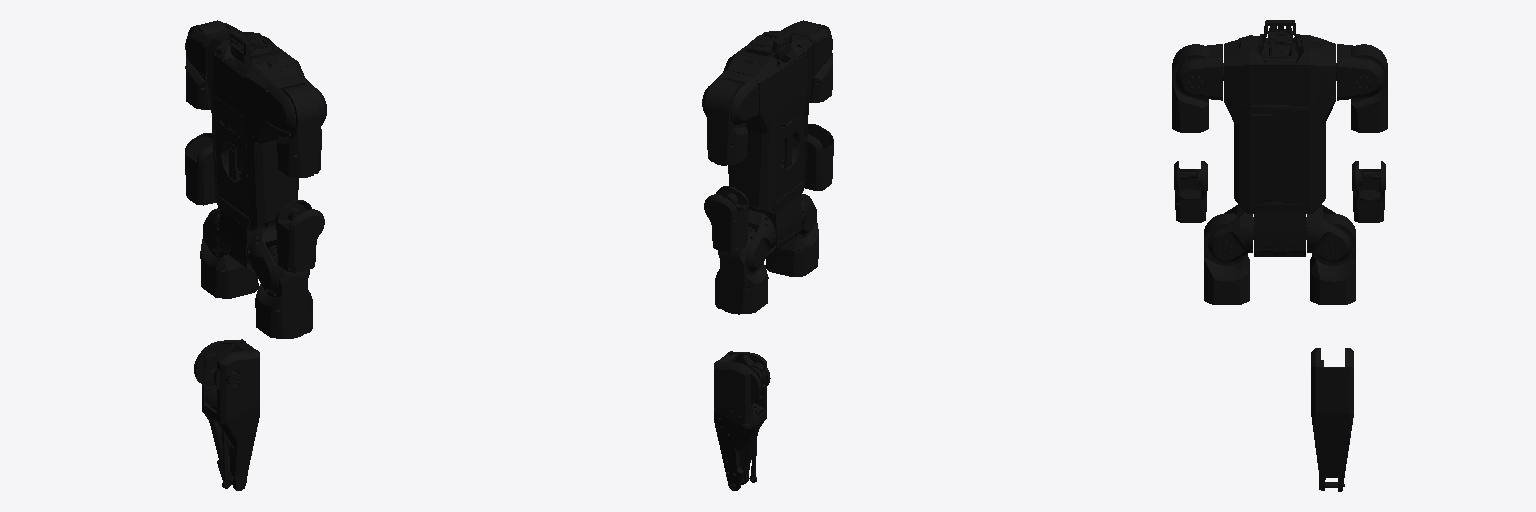
The robot description file, URDF, robot "assy_forurdf":
<?xml version="1.0" ?>
<robot name="assy_forurdf">
  <link name="base">
    <visual name="base_visual">
      <geometry name="base_geometry">
        <sphere radius="0.01"/>
      </geometry>
      <material name="base_material">
        <color rgba="1 0 0 1"/>
      </material>
      <origin xyz="0 0.035 0" rpy="0 0 1.5708"/>
    </visual>
    <inertial name="base_inertial">
      <mass value="0.001"/>
      <inertia ixx="0.000001" iyy="0.000001" izz="0.000001" ixy="0" ixz="0" iyz="0"/>
      <origin xyz="0 0.035 0" rpy="0 0 1.5708"/>
    </inertial>
  </link>
  <joint name="base_joint" type="fixed">
    <parent link="base"/>
    <child link="KD_D_101L_L_Hip_Static"/>
    <origin xyz="0 0.035 0" rpy="0 0 1.5708"/>
  </joint>
  <joint name="dof_left_hip_pitch_04" type="revolute">
    <origin xyz="0.030112 0.000852 -0.027644" rpy="-1.570796 0 1.570796"/>
    <parent link="KD_D_101L_L_Hip_Static"/>
    <child link="KD_D_102L_L_Hip_Yoke_Drive"/>
    <limit effort="120" velocity="17.488" lower="-1.047198" upper="2.216568"/>
    <axis xyz="0 0 1"/>
  </joint>
  <joint name="dof_left_hip_roll_03" type="revolute">
    <origin xyz="-0.028250 0.030000 -0.071000" rpy="3.141593 -1.570796 0"/>
    <parent link="KD_D_102L_L_Hip_Yoke_Drive"/>
    <child link="L_Hip_Roll_RS03"/>
    <limit effort="60" velocity="18.849" lower="-0.209440" upper="2.268928"/>
    <axis xyz="0 0 -1"/>
  </joint>
  <joint name="dof_right_hip_pitch_04" type="revolute">
    <origin xyz="-0.081888 0.000852 -0.027644" rpy="1.570796 0 1.570796"/>
    <parent link="KD_D_101L_L_Hip_Static"/>
    <child link="KD_D_102R"/>
    <limit effort="120" velocity="17.488" lower="-2.216568" upper="1.047198"/>
    <axis xyz="0 0 1"/>
  </joint>
  <joint name="dof_right_shoulder_pitch_03" type="revolute">
    <origin xyz="-0.146888 0.000852 0.382856" rpy="0 -1.570796 0"/>
    <parent link="KD_D_101L_L_Hip_Static"/>
    <child link="KC_C_101R_ShldYokeDrive"/>
    <limit effort="60" velocity="18.849" lower="-3.490658" upper="1.047198"/>
    <axis xyz="0 0 -1"/>
  </joint>
  <joint name="dof_left_shoulder_pitch_03" type="revolute">
    <origin xyz="0.095112 0.000852 0.382856" rpy="0 1.570796 0"/>
    <parent link="KD_D_101L_L_Hip_Static"/>
    <child link="KD_C_101L_ShldYokeDrive"/>
    <limit effort="60" velocity="18.849" lower="-1.047198" upper="3.490658"/>
    <axis xyz="0 0 -1"/>
  </joint>
  <joint name="dof_right_hip_roll_03" type="revolute">
    <origin xyz="-0.028250 -0.030000 -0.071000" rpy="0 -1.570796 0"/>
    <parent link="KD_D_102R"/>
    <child link="L_Hip_Roll_RS03_2"/>
    <limit effort="60" velocity="18.849" lower="-2.268928" upper="0.209440"/>
    <axis xyz="0 0 1"/>
  </joint>
  <joint name="dof_right_shoulder_roll_03" type="revolute">
    <origin xyz="0 -0.024250 0.080000" rpy="1.570796 1.570796 0"/>
    <parent link="KC_C_101R_ShldYokeDrive"/>
    <child link="RS03_3"/>
    <limit effort="60" velocity="18.849" lower="-1.658063" upper="0.436332"/>
    <axis xyz="0 0 1"/>
  </joint>
  <joint name="frame_imu_site" type="fixed" dont_collapse="true">
    <origin xyz="-0.025422 -0.001897 0.440523" rpy="0 0 0"/>
    <parent link="KD_D_101L_L_Hip_Static"/>
    <child link="imu"/>
  </joint>
  <joint name="dof_left_shoulder_roll_03" type="revolute">
    <origin xyz="0 -0.024250 0.080000" rpy="1.570796 -1.570796 0"/>
    <parent link="KD_C_101L_ShldYokeDrive"/>
    <child link="RS03_4"/>
    <limit effort="60" velocity="18.849" lower="-0.436332" upper="1.658063"/>
    <axis xyz="0 0 1"/>
  </joint>
  <joint name="dof_left_hip_yaw_03" type="revolute">
    <origin xyz="0 -0.143000 0.025250" rpy="1.570796 0 -3.141593"/>
    <parent link="L_Hip_Roll_RS03"/>
    <child link="KD_D_301L_L_Femur_Lower_Drive"/>
    <limit effort="60" velocity="18.849" lower="-1.570796" upper="1.570796"/>
    <axis xyz="0 0 1"/>
  </joint>
  <joint name="dof_right_hip_yaw_03" type="revolute">
    <origin xyz="0 -0.143000 -0.025250" rpy="-1.570796 0 0"/>
    <parent link="L_Hip_Roll_RS03_2"/>
    <child link="KD_D_301R"/>
    <limit effort="60" velocity="18.849" lower="-1.570796" upper="1.570796"/>
    <axis xyz="0 0 1"/>
  </joint>
  <joint name="dof_right_shoulder_yaw_02" type="revolute">
    <origin xyz="-0.013000 -0.142500 -0.031670" rpy="-1.570796 0 0"/>
    <parent link="RS03_3"/>
    <child link="KC_C_202R"/>
    <limit effort="17" velocity="37.699" lower="-1.671886" upper="1.671886"/>
    <axis xyz="0 0 1"/>
  </joint>
  <joint name="dof_left_shoulder_yaw_02" type="revolute">
    <origin xyz="0.013000 -0.142500 -0.030750" rpy="-1.570796 0 0"/>
    <parent link="RS03_4"/>
    <child link="KD_C_301L_LowerBicepDrive"/>
    <limit effort="17" velocity="37.699" lower="-1.671886" upper="1.671886"/>
    <axis xyz="0 0 1"/>
  </joint>
  <joint name="dof_left_knee_04" type="revolute">
    <origin xyz="-0.021000 0.021000 -0.212000" rpy="1.570796 0 1.570796"/>
    <parent link="KD_D_301L_L_Femur_Lower_Drive"/>
    <child link="KD_D_401L_L_Shin_Drive"/>
    <limit effort="120" velocity="17.488" lower="0" upper="2.705260"/>
    <axis xyz="0 0 1"/>
  </joint>
  <joint name="dof_left_ankle_02" type="revolute">
    <origin xyz="-0.030000 -0.290000 0.000950" rpy="3.141593 0 0"/>
    <parent link="KD_D_401L_L_Shin_Drive"/>
    <child link="LFootBushing_GPF_1517_12"/>
    <limit effort="17" velocity="37.699" lower="-1.134464" upper="0.261799"/>
    <axis xyz="0 0 -1"/>
  </joint>
  <joint name="dof_right_knee_04" type="revolute">
    <origin xyz="0.021000 0.021000 -0.212000" rpy="1.570796 0 1.570796"/>
    <parent link="KD_D_301R"/>
    <child link="KD_D_401R"/>
    <limit effort="120" velocity="17.488" lower="-2.705260" upper="0"/>
    <axis xyz="0 0 -1"/>
  </joint>
  <joint name="dof_right_elbow_02" type="revolute">
    <origin xyz="0.019000 -0.010000 -0.137000" rpy="-1.570796 0 1.570796"/>
    <parent link="KC_C_202R"/>
    <child link="KC_C_401R_R_UpForearmDrive"/>
    <limit effort="17" velocity="37.699" lower="0" upper="2.478368"/>
    <axis xyz="0 0 1"/>
  </joint>
  <joint name="dof_left_elbow_02" type="revolute">
    <origin xyz="-0.019000 -0.010000 -0.137000" rpy="1.570796 0 1.570796"/>
    <parent link="KD_C_301L_LowerBicepDrive"/>
    <child link="KC_C_401L_Up_Forearm_Drive"/>
    <limit effort="17" velocity="37.699" lower="-2.478368" upper="0"/>
    <axis xyz="0 0 1"/>
  </joint>
  <joint name="dof_right_ankle_02" type="revolute">
    <origin xyz="-0.030000 -0.290000 -0.000950" rpy="0 0 0"/>
    <parent link="KD_D_401R"/>
    <child link="RFootBushing_GPF_1517_12"/>
    <limit effort="17" velocity="37.699" lower="-0.261799" upper="1.134464"/>
    <axis xyz="0 0 -1"/>
  </joint>
  <joint name="dof_right_wrist_00" type="revolute">
    <origin xyz="0.017350 0.103000 0.018000" rpy="-1.570796 1.570796 0"/>
    <parent link="KC_C_401R_R_UpForearmDrive"/>
    <child link="PRT0001"/>
    <limit effort="14" velocity="27.227" lower="-1.378810" upper="1.378810"/>
    <axis xyz="0 0 -1"/>
  </joint>
  <joint name="dof_left_wrist_00" type="revolute">
    <origin xyz="0.017350 -0.103000 0.018000" rpy="1.570796 -1.570796 0"/>
    <parent link="KC_C_401L_Up_Forearm_Drive"/>
    <child link="PRT0001_2"/>
    <limit effort="14" velocity="27.227" lower="-1.378810" upper="1.378810"/>
    <axis xyz="0 0 -1"/>
  </joint>
  <link name="KD_D_101L_L_Hip_Static">
    <visual name="KD_D_101L_L_Hip_Static_visual">
      <origin xyz="0 0 0" rpy="0 0 0"/>
      <geometry name="KD_D_101L_L_Hip_Static_geometry">
        <mesh filename="meshes/KD_D_101L_L_Hip_Static.stl"/>
      </geometry>
      <material name="KD_D_101L_L_Hip_Static_material">
        <color rgba="0.121569 0.121569 0.121569 1"/>
      </material>
    </visual>
    <inertial name="KD_D_101L_L_Hip_Static_inertial">
      <mass value="11.824875"/>
      <inertia ixx="0.367192" iyy="0.395569" izz="0.056774" ixy="0.000002" ixz="0.000012" iyz="-0.001526"/>
      <origin xyz="-0.025919 0.003348 0.170435" rpy="0 0 0"/>
    </inertial>
  </link>
  <link name="KD_D_102L_L_Hip_Yoke_Drive">
    <visual name="KD_D_102L_L_Hip_Yoke_Drive_visual">
      <origin xyz="0 0 0" rpy="0 0 0"/>
      <geometry name="KD_D_102L_L_Hip_Yoke_Drive_geometry">
        <mesh filename="meshes/KD_D_102L_L_Hip_Yoke_Drive.stl"/>
      </geometry>
      <material name="KD_D_102L_L_Hip_Yoke_Drive_material">
        <color rgba="0.121569 0.121569 0.121569 1"/>
      </material>
    </visual>
    <inertial name="KD_D_102L_L_Hip_Yoke_Drive_inertial">
      <mass value="0.550354"/>
      <inertia ixx="0.000930" iyy="0.001251" izz="0.001328" ixy="0.000057" ixz="-0.000041" iyz="0.000182"/>
      <origin xyz="-0.004258 0.005667 -0.040380" rpy="0 0 0"/>
    </inertial>
  </link>
  <link name="L_Hip_Roll_RS03">
    <visual name="L_Hip_Roll_RS03_visual">
      <origin xyz="0 0 0" rpy="0 0 0"/>
      <geometry name="L_Hip_Roll_RS03_geometry">
        <mesh filename="meshes/L_Hip_Roll_RS03.stl"/>
      </geometry>
      <material name="L_Hip_Roll_RS03_material">
        <color rgba="0.121569 0.121569 0.121569 1"/>
      </material>
    </visual>
    <inertial name="L_Hip_Roll_RS03_inertial">
      <mass value="2.396969"/>
      <inertia ixx="0.010350" iyy="0.003224" izz="0.010755" ixy="0.000002" ixz="0.000009" iyz="-0.000303"/>
      <origin xyz="-0.000136 -0.059376 0.026066" rpy="0 0 0"/>
    </inertial>
  </link>
  <link name="KD_D_102R">
    <visual name="KD_D_102R_visual">
      <origin xyz="0 0 0" rpy="0 0 0"/>
      <geometry name="KD_D_102R_geometry">
        <mesh filename="meshes/KD_D_102R.stl"/>
      </geometry>
      <material name="KD_D_102R_material">
        <color rgba="0.121569 0.121569 0.121569 1"/>
      </material>
    </visual>
    <inertial name="KD_D_102R_inertial">
      <mass value="0.550361"/>
      <inertia ixx="0.000930" iyy="0.001251" izz="0.001328" ixy="-0.000057" ixz="-0.000041" iyz="-0.000182"/>
      <origin xyz="-0.004258 -0.005667 -0.040379" rpy="0 0 0"/>
    </inertial>
  </link>
  <link name="KC_C_101R_ShldYokeDrive">
    <visual name="KC_C_101R_ShldYokeDrive_visual">
      <origin xyz="0 0 0" rpy="0 0 0"/>
      <geometry name="KC_C_101R_ShldYokeDrive_geometry">
        <mesh filename="meshes/KC_C_101R_ShldYokeDrive.stl"/>
      </geometry>
      <material name="KC_C_101R_ShldYokeDrive_material">
        <color rgba="0.121569 0.121569 0.121569 1"/>
      </material>
    </visual>
    <inertial name="KC_C_101R_ShldYokeDrive_inertial">
      <mass value="0.569870"/>
      <inertia ixx="0.001409" iyy="0.001159" izz="0.001309" ixy="0" ixz="0.000001" iyz="0.000162"/>
      <origin xyz="0.003158 -0.007737 0.047375" rpy="0 0 0"/>
    </inertial>
  </link>
  <link name="KD_C_101L_ShldYokeDrive">
    <visual name="KD_C_101L_ShldYokeDrive_visual">
      <origin xyz="0 0 0" rpy="0 0 0"/>
      <geometry name="KD_C_101L_ShldYokeDrive_geometry">
        <mesh filename="meshes/KD_C_101L_ShldYokeDrive.stl"/>
      </geometry>
      <material name="KD_C_101L_ShldYokeDrive_material">
        <color rgba="0.121569 0.121569 0.121569 1"/>
      </material>
    </visual>
    <inertial name="KD_C_101L_ShldYokeDrive_inertial">
      <mass value="0.569863"/>
      <inertia ixx="0.001409" iyy="0.001159" izz="0.001309" ixy="0" ixz="-0.000001" iyz="0.000162"/>
      <origin xyz="-0.003158 -0.007737 0.047374" rpy="0 0 0"/>
    </inertial>
  </link>
  <link name="L_Hip_Roll_RS03_2">
    <visual name="L_Hip_Roll_RS03_visual_2">
      <origin xyz="0 0 0" rpy="0 0 0"/>
      <geometry name="L_Hip_Roll_RS03_geometry_2">
        <mesh filename="meshes/L_Hip_Roll_RS03_2.stl"/>
      </geometry>
      <material name="L_Hip_Roll_RS03_material_2">
        <color rgba="0.121569 0.121569 0.121569 1"/>
      </material>
    </visual>
    <inertial name="L_Hip_Roll_RS03_inertial_2">
      <mass value="2.396917"/>
      <inertia ixx="0.010350" iyy="0.003224" izz="0.010755" ixy="0.000002" ixz="-0.000009" iyz="0.000303"/>
      <origin xyz="-0.000137 -0.059376 -0.026067" rpy="0 0 0"/>
    </inertial>
  </link>
  <link name="RS03_3">
    <visual name="RS03_visual_3">
      <origin xyz="0 0 0" rpy="0 0 0"/>
      <geometry name="RS03_geometry_3">
        <mesh filename="meshes/RS03_3.stl"/>
      </geometry>
      <material name="RS03_material_3">
        <color rgba="0.121569 0.121569 0.121569 1"/>
      </material>
    </visual>
    <inertial name="RS03_inertial_3">
      <mass value="1.789232"/>
      <inertia ixx="0.007176" iyy="0.001972" izz="0.007602" ixy="-0.000597" ixz="-0.000001" iyz="-0.000081"/>
      <origin xyz="-0.004909 -0.041175 -0.029409" rpy="0 0 0"/>
    </inertial>
  </link>
  <link name="imu">
    <visual name="imu_visual">
      <origin xyz="0 0 0" rpy="0 0 0"/>
      <geometry name="imu_geometry">
        <mesh filename="meshes/imu.stl"/>
      </geometry>
      <material name="imu_material">
        <color rgba="0.498039 0.498039 0.498039 1"/>
      </material>
    </visual>
    <inertial name="imu_inertial">
      <mass value="0.005700"/>
      <inertia ixx="0.000001" iyy="0.000001" izz="0.000002" ixy="0" ixz="0" iyz="0"/>
      <origin xyz="-0.003012 0 0.002999" rpy="0 0 0"/>
    </inertial>
  </link>
  <link name="RS03_4">
    <visual name="RS03_visual_4">
      <origin xyz="0 0 0" rpy="0 0 0"/>
      <geometry name="RS03_geometry_4">
        <mesh filename="meshes/RS03_4.stl"/>
      </geometry>
      <material name="RS03_material_4">
        <color rgba="0.121569 0.121569 0.121569 1"/>
      </material>
    </visual>
    <inertial name="RS03_inertial_4">
      <mass value="1.789190"/>
      <inertia ixx="0.007175" iyy="0.001972" izz="0.007602" ixy="0.000599" ixz="0.000012" iyz="-0.000104"/>
      <origin xyz="0.004876 -0.041173 -0.029352" rpy="0 0 0"/>
    </inertial>
  </link>
  <link name="KD_D_301L_L_Femur_Lower_Drive">
    <visual name="KD_D_301L_L_Femur_Lower_Drive_visual">
      <origin xyz="0 0 0" rpy="0 0 0"/>
      <geometry name="KD_D_301L_L_Femur_Lower_Drive_geometry">
        <mesh filename="meshes/KD_D_301L_L_Femur_Lower_Drive.stl"/>
      </geometry>
      <material name="KD_D_301L_L_Femur_Lower_Drive_material">
        <color rgba="0.121569 0.121569 0.121569 1"/>
      </material>
    </visual>
    <inertial name="KD_D_301L_L_Femur_Lower_Drive_inertial">
      <mass value="2.349254"/>
      <inertia ixx="0.015361" iyy="0.013924" izz="0.004011" ixy="-0.000189" ixz="0.001119" iyz="0.001496"/>
      <origin xyz="0.001576 0.013392 -0.172799" rpy="0 0 0"/>
    </inertial>
  </link>
  <link name="KD_D_301R">
    <visual name="KD_D_301R_visual">
      <origin xyz="0 0 0" rpy="0 0 0"/>
      <geometry name="KD_D_301R_geometry">
        <mesh filename="meshes/KD_D_301R.stl"/>
      </geometry>
      <material name="KD_D_301R_material">
        <color rgba="0.121569 0.121569 0.121569 1"/>
      </material>
    </visual>
    <inertial name="KD_D_301R_inertial">
      <mass value="2.349261"/>
      <inertia ixx="0.015362" iyy="0.013924" izz="0.004011" ixy="0.000189" ixz="-0.001119" iyz="0.001496"/>
      <origin xyz="-0.001577 0.013392 -0.172799" rpy="0 0 0"/>
    </inertial>
  </link>
  <link name="KC_C_202R">
    <visual name="KC_C_202R_visual">
      <origin xyz="0 0 0" rpy="0 0 0"/>
      <geometry name="KC_C_202R_geometry">
        <mesh filename="meshes/KC_C_202R.stl"/>
      </geometry>
      <material name="KC_C_202R_material">
        <color rgba="0.121569 0.121569 0.121569 1"/>
      </material>
    </visual>
    <inertial name="KC_C_202R_inertial">
      <mass value="0.753224"/>
      <inertia ixx="0.002457" iyy="0.002305" izz="0.000727" ixy="-0.000034" ixz="-0.000250" iyz="-0.000139"/>
      <origin xyz="0.003135 -0.003955 -0.099599" rpy="0 0 0"/>
    </inertial>
  </link>
  <link name="KD_C_301L_LowerBicepDrive">
    <visual name="KD_C_301L_LowerBicepDrive_visual">
      <origin xyz="0 0 0" rpy="0 0 0"/>
      <geometry name="KD_C_301L_LowerBicepDrive_geometry">
        <mesh filename="meshes/KD_C_301L_LowerBicepDrive.stl"/>
      </geometry>
      <material name="KD_C_301L_LowerBicepDrive_material">
        <color rgba="0.121569 0.121569 0.121569 1"/>
      </material>
    </visual>
    <inertial name="KD_C_301L_LowerBicepDrive_inertial">
      <mass value="0.866827"/>
      <inertia ixx="0.002953" iyy="0.002777" izz="0.000923" ixy="0.000016" ixz="0.000145" iyz="-0.000150"/>
      <origin xyz="0.000333 -0.002948 -0.095705" rpy="0 0 0"/>
    </inertial>
  </link>
  <link name="KD_D_401L_L_Shin_Drive">
    <visual name="KD_D_401L_L_Shin_Drive_visual">
      <origin xyz="0 0 0" rpy="0 0 0"/>
      <geometry name="KD_D_401L_L_Shin_Drive_geometry">
        <mesh filename="meshes/KD_D_401L_L_Shin_Drive.stl"/>
      </geometry>
      <material name="KD_D_401L_L_Shin_Drive_material">
        <color rgba="0.121569 0.121569 0.121569 1"/>
      </material>
    </visual>
    <inertial name="KD_D_401L_L_Shin_Drive_inertial">
      <mass value="1.684707"/>
      <inertia ixx="0.014785" iyy="0.002991" izz="0.014664" ixy="-0.000101" ixz="0.000022" iyz="0.000493"/>
      <origin xyz="-0.024116 -0.104308 0.018559" rpy="0 0 0"/>
    </inertial>
  </link>
  <link name="LFootBushing_GPF_1517_12">
    <visual name="LFootBushing_GPF_1517_12_visual">
      <origin xyz="0 0 0" rpy="0 0 0"/>
      <geometry name="LFootBushing_GPF_1517_12_geometry">
        <mesh filename="meshes/LFootBushing_GPF_1517_12.stl"/>
      </geometry>
      <material name="LFootBushing_GPF_1517_12_material">
        <color rgba="0.121569 0.121569 0.121569 1"/>
      </material>
    </visual>
    <collision name="LFootBushing_GPF_1517_12.collision">
      <origin xyz="0 0 0" rpy="0 0 0"/>
      <geometry name="LFootBushing_GPF_1517_12_collision_geometry">
        <mesh filename="meshes/LFootBushing_GPF_1517_12.collision.stl"/>
      </geometry>
    </collision>
    <inertial name="LFootBushing_GPF_1517_12_inertial">
      <mass value="0.608966"/>
      <inertia ixx="0.000377" iyy="0.001940" izz="0.001893" ixy="0.000126" ixz="-0.000025" iyz="0.000027"/>
      <origin xyz="-0.016549 0.031142 -0.012943" rpy="0 0 0"/>
    </inertial>
  </link>
  <link name="KD_D_401R">
    <visual name="KD_D_401R_visual">
      <origin xyz="0 0 0" rpy="0 0 0"/>
      <geometry name="KD_D_401R_geometry">
        <mesh filename="meshes/KD_D_401R.stl"/>
      </geometry>
      <material name="KD_D_401R_material">
        <color rgba="0.121569 0.121569 0.121569 1"/>
      </material>
    </visual>
    <inertial name="KD_D_401R_inertial">
      <mass value="1.684717"/>
      <inertia ixx="0.014785" iyy="0.002991" izz="0.014664" ixy="-0.000101" ixz="-0.000022" iyz="-0.000494"/>
      <origin xyz="-0.024117 -0.104310 -0.018558" rpy="0 0 0"/>
    </inertial>
  </link>
  <link name="KC_C_401R_R_UpForearmDrive">
    <visual name="KC_C_401R_R_UpForearmDrive_visual">
      <origin xyz="0 0 0" rpy="0 0 0"/>
      <geometry name="KC_C_401R_R_UpForearmDrive_geometry">
        <mesh filename="meshes/KC_C_401R_R_UpForearmDrive.stl"/>
      </geometry>
      <material name="KC_C_401R_R_UpForearmDrive_material">
        <color rgba="0.121569 0.121569 0.121569 1"/>
      </material>
    </visual>
    <inertial name="KC_C_401R_R_UpForearmDrive_inertial">
      <mass value="0.641859"/>
      <inertia ixx="0.001302" iyy="0.000701" izz="0.001278" ixy="-0.000051" ixz="-0.000010" iyz="-0.000045"/>
      <origin xyz="0.015853 0.061198 0.015613" rpy="0 0 0"/>
    </inertial>
  </link>
  <link name="KC_C_401L_Up_Forearm_Drive">
    <visual name="KC_C_401L_Up_Forearm_Drive_visual">
      <origin xyz="0 0 0" rpy="0 0 0"/>
      <geometry name="KC_C_401L_Up_Forearm_Drive_geometry">
        <mesh filename="meshes/KC_C_401L_Up_Forearm_Drive.stl"/>
      </geometry>
      <material name="KC_C_401L_Up_Forearm_Drive_material">
        <color rgba="0.121569 0.121569 0.121569 1"/>
      </material>
    </visual>
    <inertial name="KC_C_401L_Up_Forearm_Drive_inertial">
      <mass value="0.641873"/>
      <inertia ixx="0.001303" iyy="0.000701" izz="0.001278" ixy="0.000051" ixz="-0.000010" iyz="0.000048"/>
      <origin xyz="0.015853 -0.061197 0.015921" rpy="0 0 0"/>
    </inertial>
  </link>
  <link name="RFootBushing_GPF_1517_12">
    <visual name="RFootBushing_GPF_1517_12_visual">
      <origin xyz="0 0 0" rpy="0 0 0"/>
      <geometry name="RFootBushing_GPF_1517_12_geometry">
        <mesh filename="meshes/RFootBushing_GPF_1517_12.stl"/>
      </geometry>
      <material name="RFootBushing_GPF_1517_12_material">
        <color rgba="0.121569 0.121569 0.121569 1"/>
      </material>
    </visual>
    <collision name="RFootBushing_GPF_1517_12.collision">
      <origin xyz="0 0 0" rpy="0 0 0"/>
      <geometry name="RFootBushing_GPF_1517_12_collision_geometry">
        <mesh filename="meshes/RFootBushing_GPF_1517_12.collision.stl"/>
      </geometry>
    </collision>
    <inertial name="RFootBushing_GPF_1517_12_inertial">
      <mass value="0.608742"/>
      <inertia ixx="0.000377" iyy="0.001939" izz="0.001892" ixy="-0.000126" ixz="-0.000025" iyz="-0.000027"/>
      <origin xyz="-0.016546 -0.031136 -0.012942" rpy="0 0 0"/>
    </inertial>
  </link>
  <link name="PRT0001">
    <visual name="PRT0001_visual">
      <origin xyz="0 0 0" rpy="0 0 0"/>
      <geometry name="PRT0001_geometry">
        <mesh filename="meshes/PRT0001.stl"/>
      </geometry>
      <material name="PRT0001_material">
        <color rgba="0.121569 0.121569 0.121569 1"/>
      </material>
    </visual>
    <inertial name="PRT0001_inertial">
      <mass value="0.462356"/>
      <inertia ixx="0.000274" iyy="0.000266" izz="0.000406" ixy="0" ixz="0.000002" iyz="0"/>
      <origin xyz="0.000357 0.000031 0.027390" rpy="0 0 0"/>
    </inertial>
  </link>
  <link name="PRT0001_2">
    <visual name="PRT0001_visual_2">
      <origin xyz="0 0 0" rpy="0 0 0"/>
      <geometry name="PRT0001_geometry_2">
        <mesh filename="meshes/PRT0001_2.stl"/>
      </geometry>
      <material name="PRT0001_material_2">
        <color rgba="0.121569 0.121569 0.121569 1"/>
      </material>
    </visual>
    <inertial name="PRT0001_inertial_2">
      <mass value="0.462356"/>
      <inertia ixx="0.000274" iyy="0.000266" izz="0.000406" ixy="0" ixz="-0.000002" iyz="0"/>
      <origin xyz="-0.000357 -0.000031 0.027390" rpy="0 0 0"/>
    </inertial>
  </link>
</robot>

--- Facts derived from the render (not from the file) ---
3 views of the same robot in one strip: view 1: azimuth 30°, elevation 25°; view 2: azimuth 150°, elevation 25°; view 3: azimuth 270°, elevation 25° (orthographic).
Model assy_forurdf with 23 links and 22 joints (20 revolute, 2 fixed), rooted at base, posed every joint at zero.
Visible links, largest first — view 1: KD_D_101L_L_Hip_Static, KD_D_401L_L_Shin_Drive, L_Hip_Roll_RS03_2, RS03_3, KC_C_401R_R_UpForearmDrive, L_Hip_Roll_RS03, KC_C_401L_Up_Forearm_Drive, KC_C_101R_ShldYokeDrive, KD_D_102R, RS03_4, KD_C_101L_ShldYokeDrive, KD_D_102L_L_Hip_Yoke_Drive; view 2: KD_D_101L_L_Hip_Static, KD_D_401L_L_Shin_Drive, L_Hip_Roll_RS03, RS03_4, KC_C_401L_Up_Forearm_Drive, L_Hip_Roll_RS03_2, KC_C_401R_R_UpForearmDrive, KD_C_101L_ShldYokeDrive, KD_D_102L_L_Hip_Yoke_Drive, RS03_3, KC_C_101R_ShldYokeDrive; view 3: KD_D_101L_L_Hip_Static, KD_D_401L_L_Shin_Drive, L_Hip_Roll_RS03, L_Hip_Roll_RS03_2, RS03_3, RS03_4, KC_C_101R_ShldYokeDrive, KD_C_101L_ShldYokeDrive, KC_C_401L_Up_Forearm_Drive, KC_C_401R_R_UpForearmDrive, KD_D_102L_L_Hip_Yoke_Drive, KD_D_102R.
Link boxes in pixels (x1,y1,x2,y2): KD_D_101L_L_Hip_Static: (207, 31, 304, 275); KD_D_401L_L_Shin_Drive: (194, 339, 259, 490); L_Hip_Roll_RS03_2: (255, 248, 312, 338); RS03_3: (277, 84, 321, 177); KC_C_401R_R_UpForearmDrive: (276, 200, 324, 272); L_Hip_Roll_RS03: (200, 208, 258, 298); KC_C_401L_Up_Forearm_Drive: (185, 133, 216, 205); KC_C_101R_ShldYokeDrive: (265, 74, 326, 133); KD_D_102R: (247, 226, 309, 292); RS03_4: (185, 20, 227, 109); KD_C_101L_ShldYokeDrive: (185, 23, 241, 77); KD_D_102L_L_Hip_Yoke_Drive: (203, 210, 221, 252); KD_D_101L_L_Hip_Static: (723, 31, 812, 255); KD_D_401L_L_Shin_Drive: (714, 351, 770, 490); L_Hip_Roll_RS03: (715, 230, 768, 314); RS03_4: (707, 79, 747, 165); KC_C_401L_Up_Forearm_Drive: (704, 186, 748, 252); L_Hip_Roll_RS03_2: (765, 194, 818, 276); KC_C_401R_R_UpForearmDrive: (804, 124, 833, 190); KD_C_101L_ShldYokeDrive: (702, 70, 758, 125); KD_D_102L_L_Hip_Yoke_Drive: (718, 210, 775, 271); RS03_3: (794, 20, 832, 102); KC_C_101R_ShldYokeDrive: (781, 22, 832, 73); KD_D_101L_L_Hip_Static: (1224, 20, 1335, 256); KD_D_401L_L_Shin_Drive: (1311, 348, 1353, 491); L_Hip_Roll_RS03: (1310, 214, 1355, 304); L_Hip_Roll_RS03_2: (1204, 214, 1249, 304); RS03_3: (1172, 44, 1208, 132); RS03_4: (1351, 44, 1387, 132); KC_C_101R_ShldYokeDrive: (1176, 44, 1223, 100); KD_C_101L_ShldYokeDrive: (1336, 44, 1383, 100); KC_C_401L_Up_Forearm_Drive: (1352, 161, 1385, 222); KC_C_401R_R_UpForearmDrive: (1174, 161, 1207, 222); KD_D_102L_L_Hip_Yoke_Drive: (1306, 205, 1351, 262); KD_D_102R: (1208, 205, 1253, 262).
Bounding box of the posed robot: 0.145 × 0.516 × 1.22 m (x, y, z).
12 mesh visuals loaded from 22 distinct referenced files (12 binary STL); not drawn: 10 (reference not matched to a file when rendering).